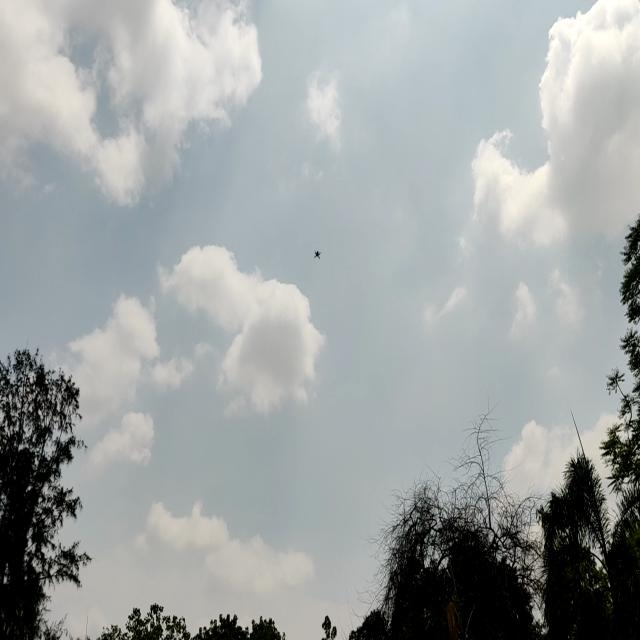drone: (308, 248, 326, 266)
